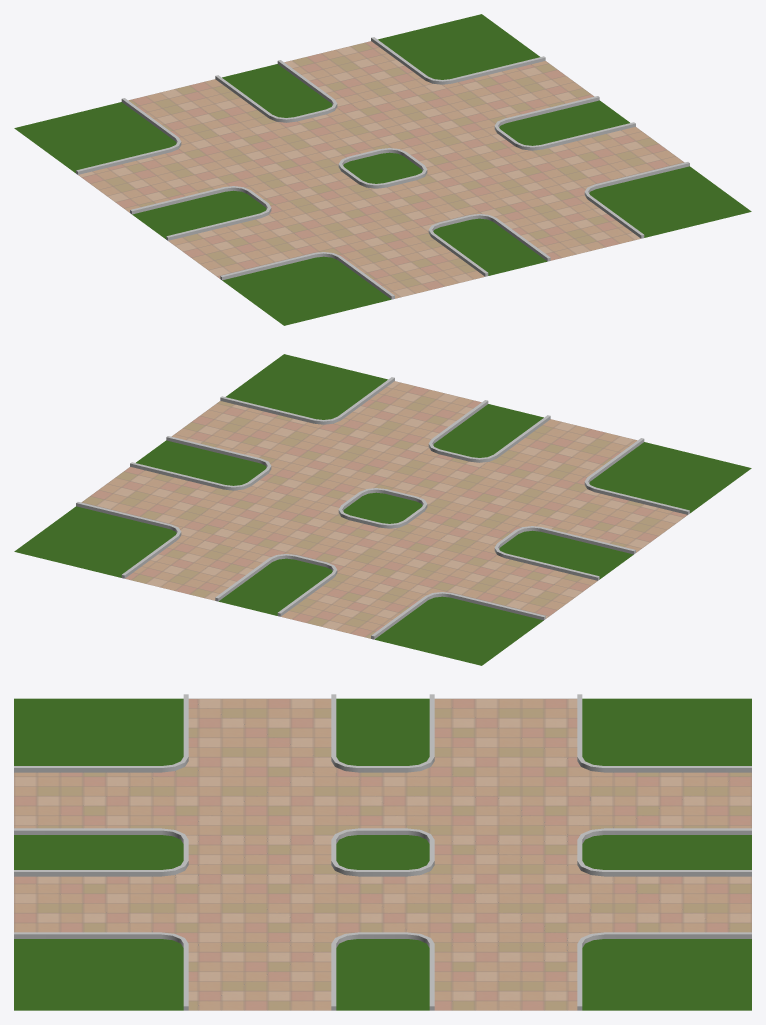
Rendered from Park_Sidewalk_03.fbx.
3 renders of one model, top to bottom at view 1: azimuth 30°, elevation 25°; view 2: azimuth 150°, elevation 25°; view 3: azimuth 270°, elevation 25°, orthographic. The views are drawn at different scales.
Parts seen in each view (by area): view 1: Park_Sidewalk_03; view 2: Park_Sidewalk_03; view 3: Park_Sidewalk_03.
Boxes of the visible parts, x1=… form: Park_Sidewalk_03: x1=14, y1=14, x2=751, y2=325; Park_Sidewalk_03: x1=14, y1=354, x2=751, y2=665; Park_Sidewalk_03: x1=14, y1=694, x2=751, y2=1010.
Size of the model in its own units: 3000 by 3000 by 20.
